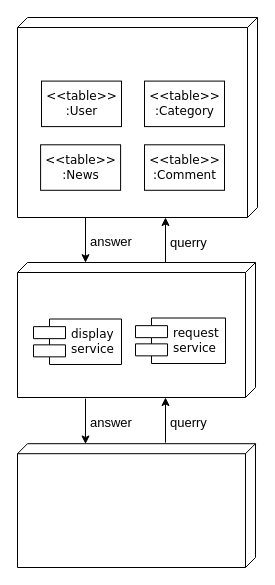
This 275x585 diagram has some shape labels left out. Here are the shapes that lost their labels. From the top down, the box of each, then its label:
(16, 16, 258, 218): <<source>> :database server
(16, 262, 256, 398): <<server>> :web-server
(16, 443, 256, 568): <<client>> :web-browser
